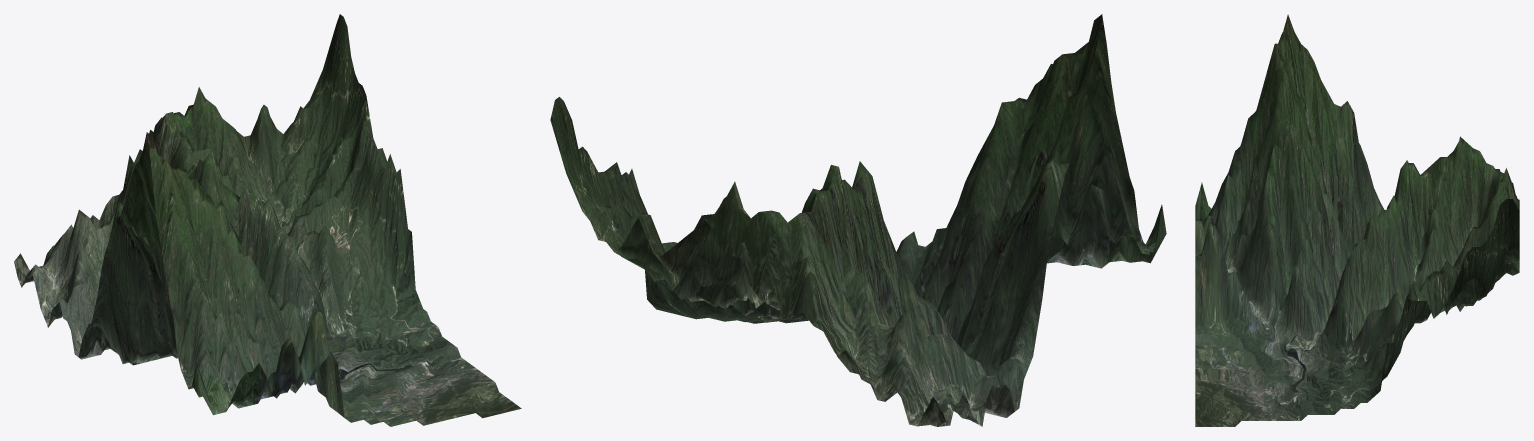
File: mountain_small.obj
3 renders of one model, left to right at view 1: azimuth 30°, elevation 25°; view 2: azimuth 150°, elevation 25°; view 3: azimuth 270°, elevation 25°, orthographic. The views are drawn at different scales.
Visible parts, largest first — view 1: default; view 2: default; view 3: default.
Boxes of the visible parts, left/top/right/bottom form: default: left=14, top=14, right=521, bottom=426; default: left=550, top=14, right=1166, bottom=426; default: left=1195, top=14, right=1519, bottom=426.
Bounding box in the file's own units: 49 × 46 × 49.
